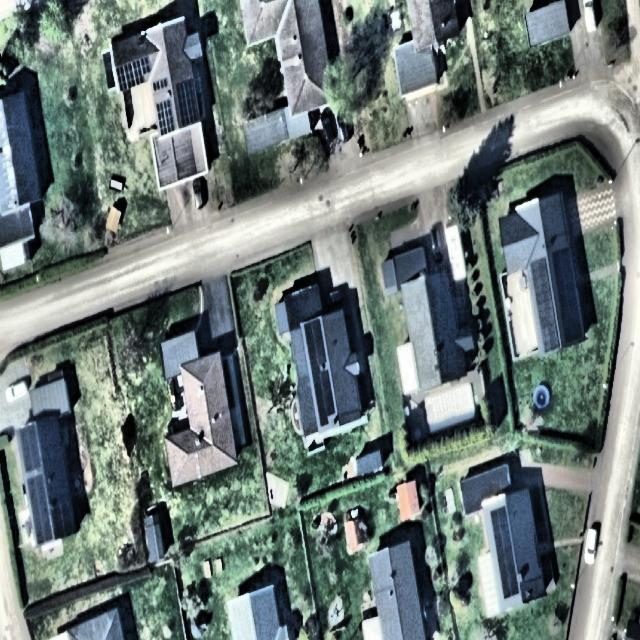roof_pv: (302, 315, 339, 433), (552, 245, 585, 343), (490, 508, 521, 602), (530, 253, 556, 354), (27, 472, 53, 541), (114, 47, 154, 90), (174, 75, 200, 126), (19, 419, 42, 474), (155, 95, 177, 133), (148, 73, 172, 93)
